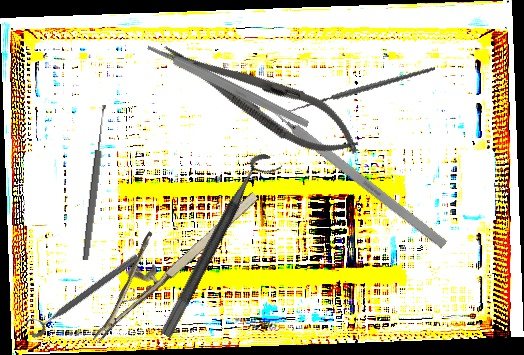Fixation Ring: (158, 149, 285, 347), (22, 245, 142, 340)
Hook Surgical: (258, 97, 448, 250), (281, 33, 436, 155)
Needle Holder: (63, 164, 264, 344), (150, 24, 372, 172)
Scalpel Handle: (145, 41, 311, 130)
Surgical Spoon: (81, 104, 109, 261)
